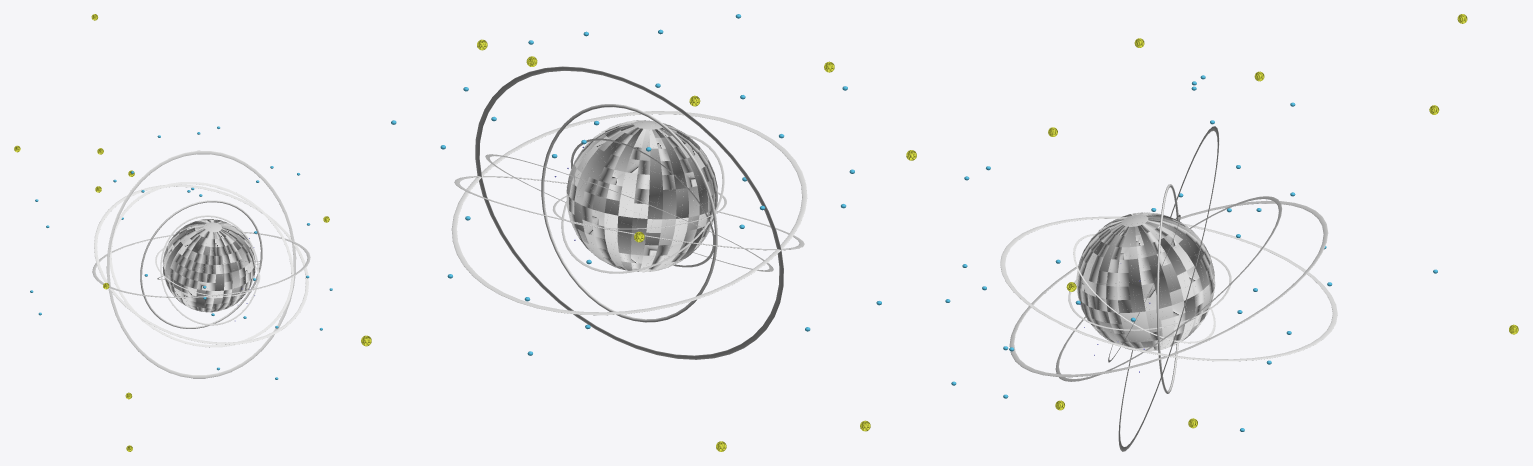
The model's file is Earth2-v1.glb.
3 renders of one model, left to right at view 1: azimuth 30°, elevation 25°; view 2: azimuth 150°, elevation 25°; view 3: azimuth 270°, elevation 25°, orthographic. The views are drawn at different scales.
Parts seen in each view (by area): view 1: Sphere, BezierCircle.003, BezierCircle.002, BezierCircle.001, BezierCircle.004, BezierCircle.005, BezierCircle.006; view 2: Sphere, BezierCircle.003, BezierCircle.005, BezierCircle.004, BezierCircle.002, BezierCircle.007, BezierCircle.001, BezierCircle.006; view 3: Sphere, BezierCircle.005, BezierCircle.002, BezierCircle.001, BezierCircle.003, BezierCircle.004.
Boxes of the visible parts, box(x1,y1,x2,y2) form: Sphere: box(162, 219, 255, 312); BezierCircle.003: box(106, 150, 296, 378); BezierCircle.002: box(94, 184, 308, 344); BezierCircle.001: box(109, 182, 293, 347); BezierCircle.004: box(140, 200, 262, 328); BezierCircle.005: box(92, 232, 310, 297); BezierCircle.006: box(160, 215, 258, 325); Sphere: box(566, 120, 717, 271); BezierCircle.003: box(475, 66, 783, 359); BezierCircle.005: box(451, 111, 807, 315); BezierCircle.004: box(541, 104, 717, 322); BezierCircle.002: box(454, 176, 804, 250); BezierCircle.007: box(561, 134, 724, 273); BezierCircle.001: box(485, 154, 773, 271); BezierCircle.006: box(570, 138, 714, 267); Sphere: box(1076, 212, 1215, 351); BezierCircle.005: box(1000, 216, 1337, 361); BezierCircle.002: box(1009, 200, 1328, 377); BezierCircle.001: box(1055, 196, 1282, 381); BezierCircle.003: box(1118, 126, 1219, 451); BezierCircle.004: box(1156, 184, 1179, 393).
Bounding box in the file's own units: 3472 × 3710 × 4117.
